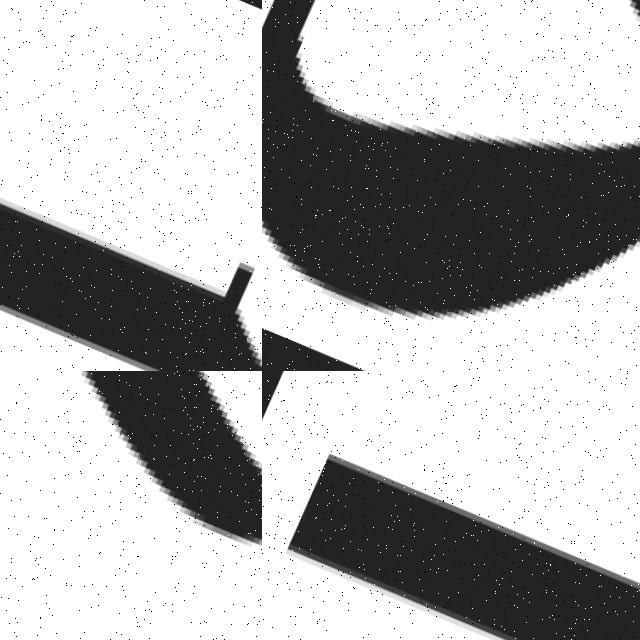1: (262, 446, 640, 640)
C: (262, 0, 640, 318)
F: (0, 119, 262, 371)
S: (0, 371, 262, 640)
